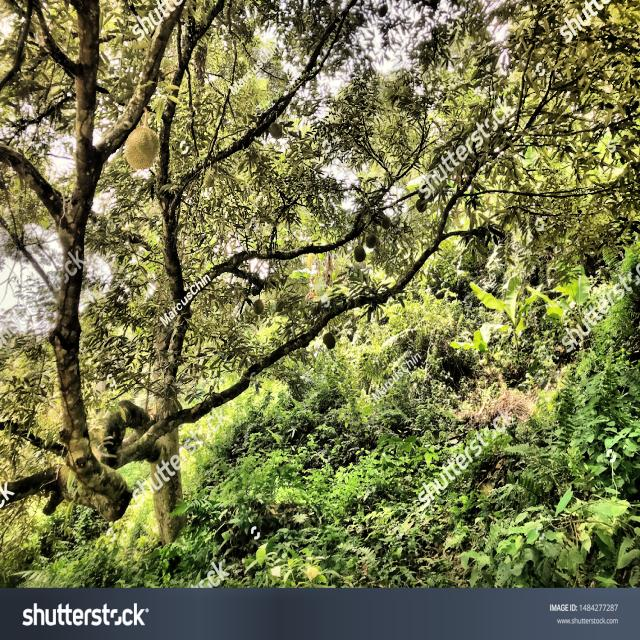arvore: (148, 253, 204, 562)
